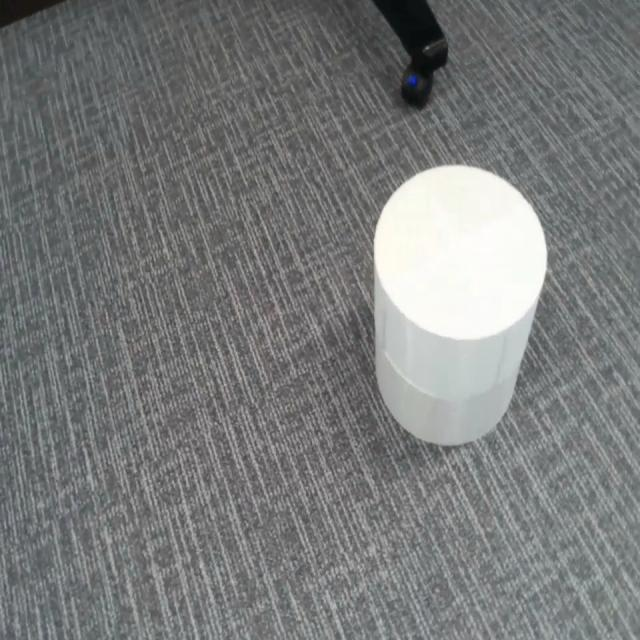cylinder: (372, 162, 550, 448)
